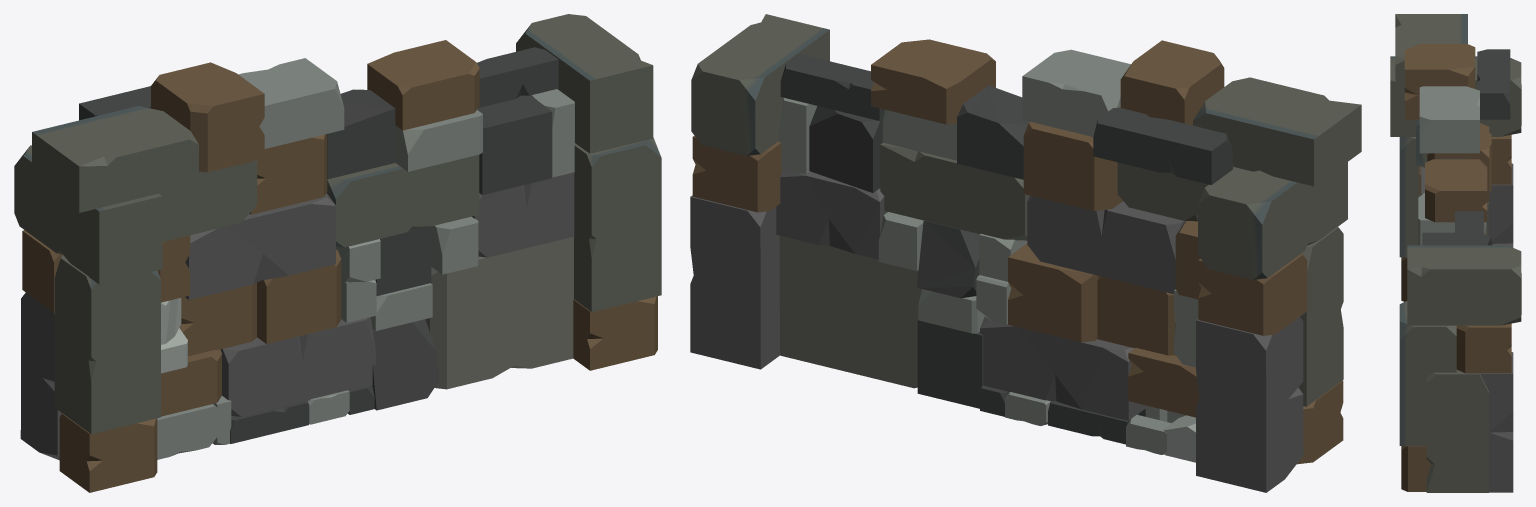
The model's file is ZLP_Build_D_31.FBX.
The picture shows the model from 3 angles, left to right: view 1: azimuth 30°, elevation 25°; view 2: azimuth 150°, elevation 25°; view 3: azimuth 270°, elevation 25°; orthographic projection. The views are drawn at different scales.
Visible parts, largest first — view 1: ZLP_Build_D_31; view 2: ZLP_Build_D_31; view 3: ZLP_Build_D_31.
Part boxes in pixels (bbox=[...]): ZLP_Build_D_31: bbox=[14, 14, 661, 492]; ZLP_Build_D_31: bbox=[690, 14, 1361, 492]; ZLP_Build_D_31: bbox=[1390, 14, 1521, 492].
Bounding box in the file's own units: 354 × 204 × 88.61.
